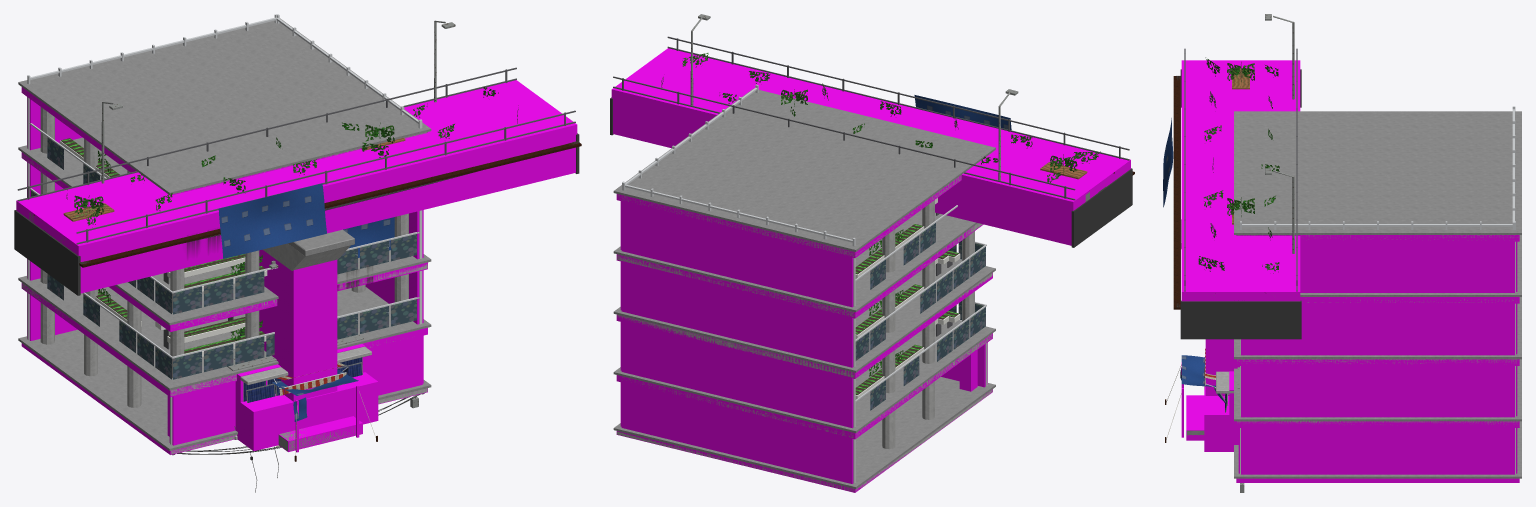
Rendered from kit_tech.glb.
3 renders of one model, left to right at view 1: azimuth 30°, elevation 25°; view 2: azimuth 150°, elevation 25°; view 3: azimuth 270°, elevation 25°, orthographic. The views are drawn at different scales.
Parts seen in each view (by area): view 1: MARCO_torre_fazenda_concrete_dark, COL_tabuleiro, MARCO_torre_fazenda_glass_broken, COL_pilar, MARCO_torre_fazenda_concrete, COL_hall, MARCO_viaduto_maglev_tarp_blue, COL_canopy, MARCO_torre_fazenda_aluminum, MARCO_viaduto_maglev_metal_dark, MARCO_viaduto_maglev_rubber, MARCO_viaduto_maglev_rust_dark (+18 smaller); view 2: MARCO_torre_fazenda_concrete_dark, COL_pele_tras, COL_tabuleiro, MARCO_torre_fazenda_concrete, MARCO_torre_fazenda_glass_broken, MARCO_viaduto_maglev_metal_dark, MARCO_torre_fazenda_aluminum, COL_laje_1, MARCO_viaduto_maglev_rubber, COL_laje_3, COL_laje_4, COL_laje_2 (+8 smaller); view 3: COL_pele_dir, MARCO_torre_fazenda_concrete_dark, COL_tabuleiro, MARCO_viaduto_maglev_rubber, COL_laje_2, COL_laje_1, MARCO_viaduto_maglev_rust_dark, MARCO_viaduto_maglev_leaves, MARCO_torre_fazenda_aluminum, COL_canopy, COL_laje_4, COL_laje_3 (+9 smaller).
Part boxes in pixels (bbox=[...]): MARCO_torre_fazenda_concrete_dark: bbox=[18, 18, 431, 450]; COL_tabuleiro: bbox=[16, 80, 577, 293]; MARCO_torre_fazenda_glass_broken: bbox=[31, 137, 416, 379]; COL_pilar: bbox=[259, 249, 337, 401]; MARCO_torre_fazenda_concrete: bbox=[22, 89, 427, 454]; COL_hall: bbox=[169, 336, 422, 445]; MARCO_viaduto_maglev_tarp_blue: bbox=[218, 183, 326, 258]; COL_canopy: bbox=[235, 372, 378, 450]; MARCO_torre_fazenda_aluminum: bbox=[27, 14, 422, 444]; MARCO_viaduto_maglev_metal_dark: bbox=[17, 67, 575, 244]; MARCO_viaduto_maglev_rubber: bbox=[14, 133, 579, 295]; MARCO_viaduto_maglev_rust_dark: bbox=[79, 141, 581, 267]; MARCO_torre_fazenda_concrete_dark: bbox=[613, 88, 995, 488]; COL_pele_tras: bbox=[621, 201, 853, 483]; COL_tabuleiro: bbox=[611, 48, 1130, 245]; MARCO_torre_fazenda_concrete: bbox=[617, 154, 992, 491]; MARCO_torre_fazenda_glass_broken: bbox=[855, 223, 985, 410]; MARCO_viaduto_maglev_metal_dark: bbox=[613, 36, 1129, 200]; MARCO_torre_fazenda_aluminum: bbox=[622, 84, 987, 483]; COL_laje_1: bbox=[616, 333, 992, 439]; MARCO_viaduto_maglev_rubber: bbox=[610, 97, 1132, 247]; COL_laje_3: bbox=[616, 224, 983, 318]; COL_laje_4: bbox=[616, 170, 967, 257]; COL_laje_2: bbox=[616, 273, 992, 378]; COL_pele_dir: bbox=[1241, 241, 1514, 474]; MARCO_torre_fazenda_concrete_dark: bbox=[1234, 111, 1521, 478]; COL_tabuleiro: bbox=[1181, 60, 1300, 301]; MARCO_viaduto_maglev_rubber: bbox=[1176, 69, 1301, 339]; COL_laje_2: bbox=[1236, 359, 1519, 365]; COL_laje_1: bbox=[1236, 421, 1519, 427]; MARCO_viaduto_maglev_rust_dark: bbox=[1173, 76, 1180, 309]; MARCO_viaduto_maglev_leaves: bbox=[1198, 57, 1279, 273]; MARCO_torre_fazenda_aluminum: bbox=[1240, 106, 1515, 473]; COL_canopy: bbox=[1204, 357, 1238, 451]; COL_laje_4: bbox=[1236, 235, 1519, 241]; COL_laje_3: bbox=[1300, 297, 1519, 303].
Bounding box in the file's own units: 24.12 × 18.7 × 15.71.
Materials: 74 (42 with a texture image).
